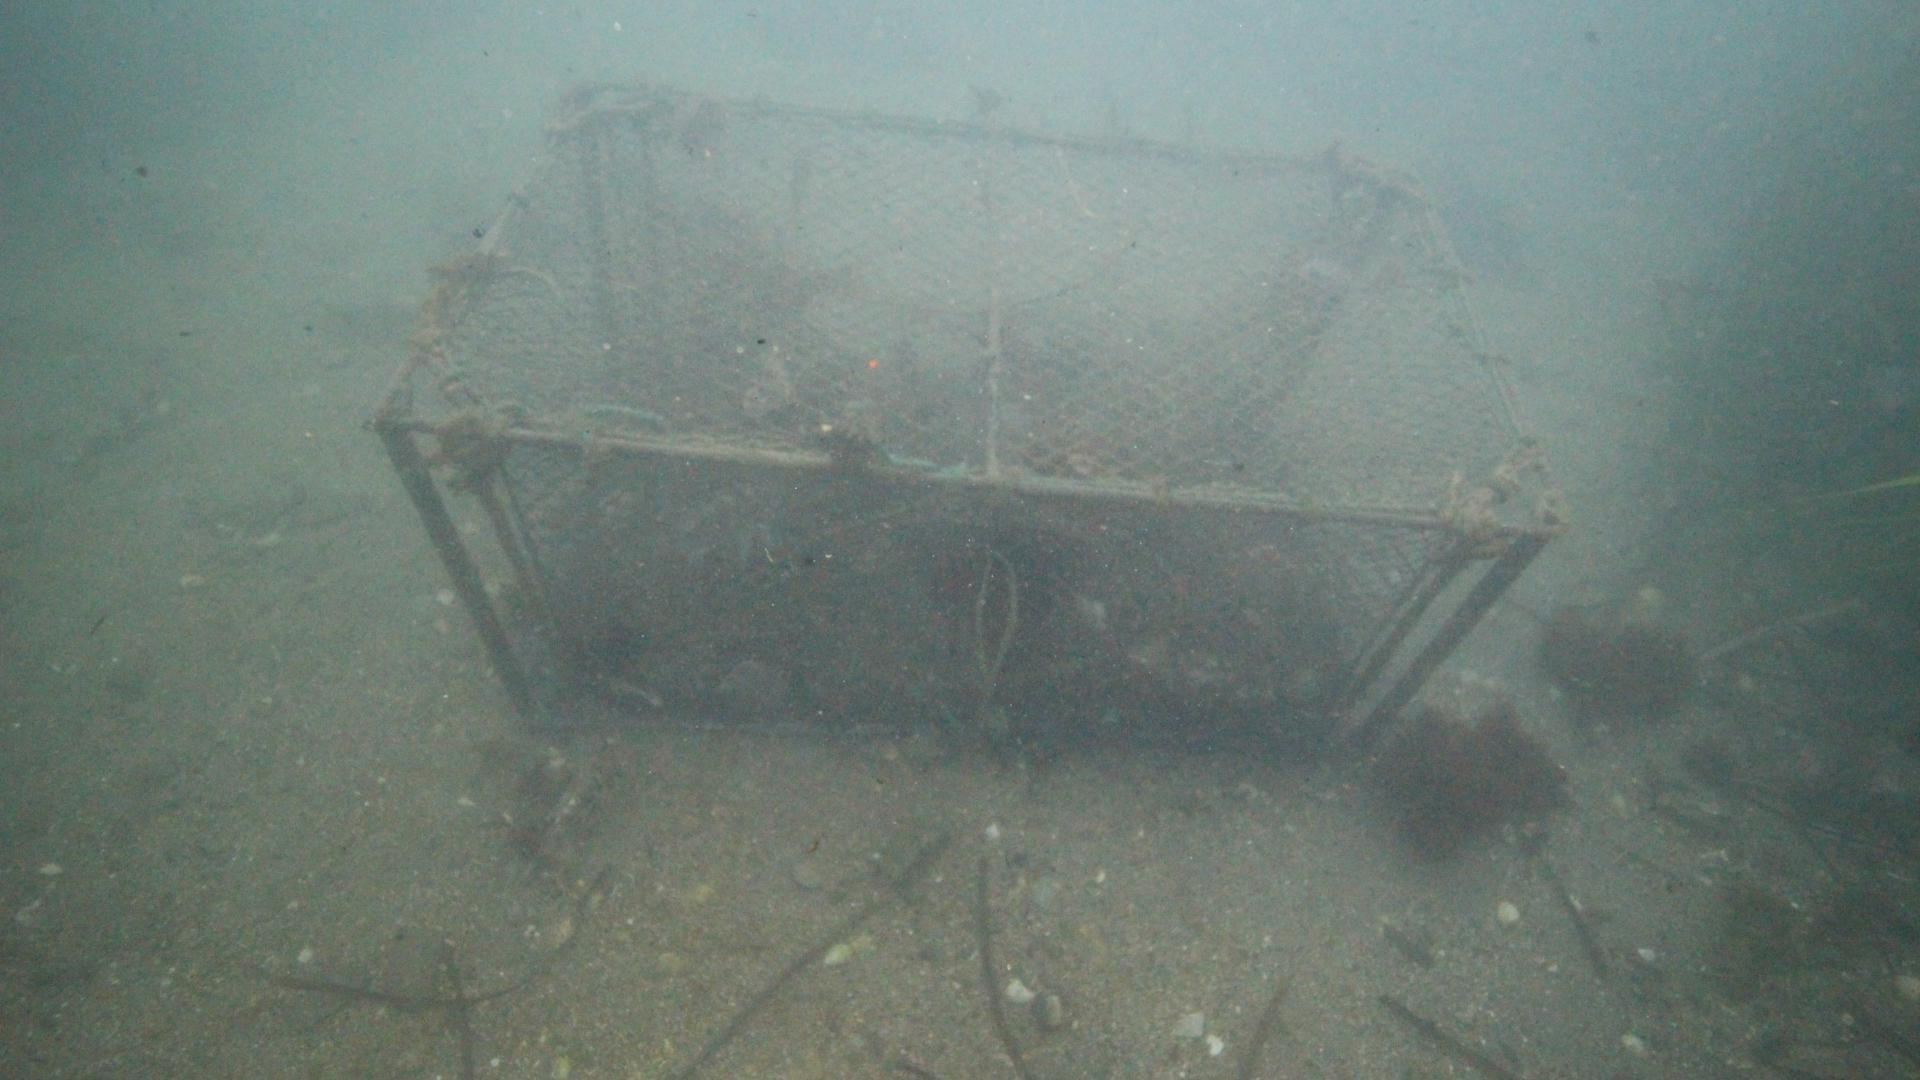rectangular fish trap: (372, 80, 1572, 781)
